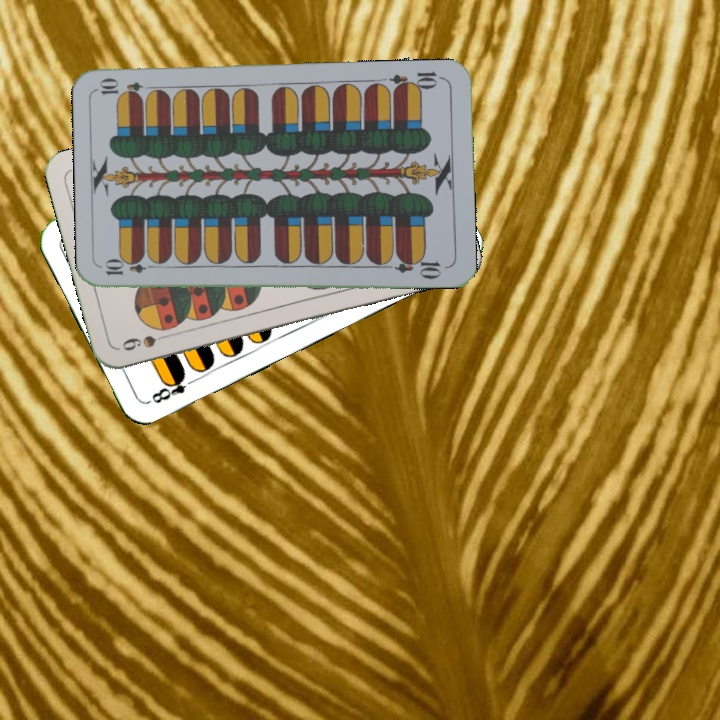E10: (387, 68, 446, 94), (101, 259, 160, 278)
E8: (144, 369, 200, 406)
S9: (117, 329, 175, 354)
